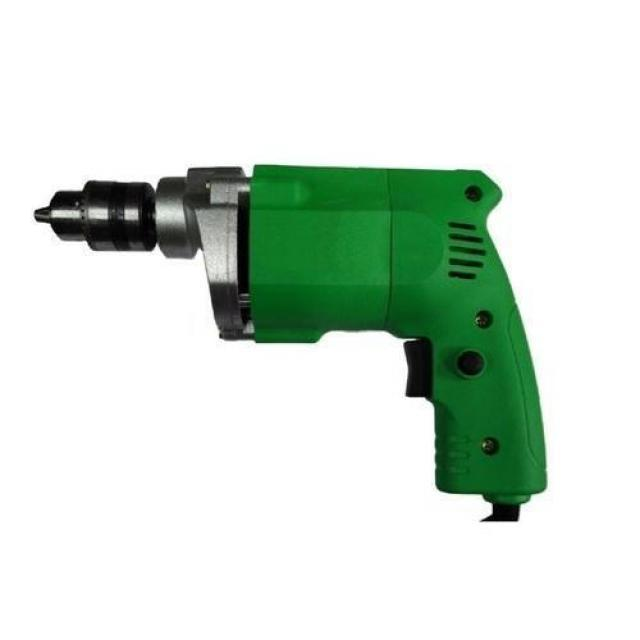drill: (33, 163, 548, 523)
